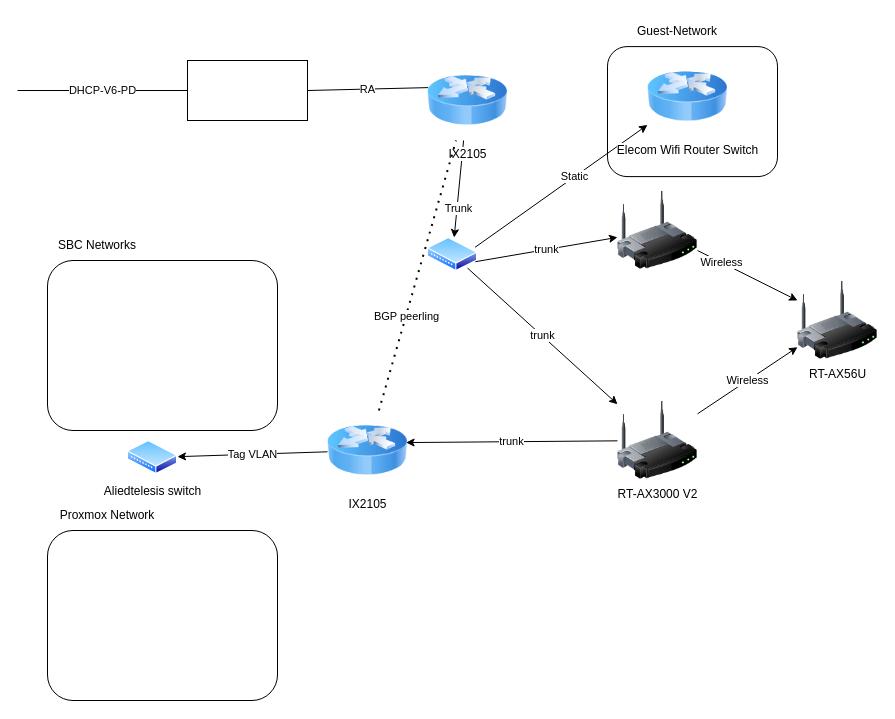
The diagram is 895 pixels wide and 719 high, and some of its shapes have lost their labels. Here are the shapes that lost their labels. From the top down, the centre of each, then its label:
At point (247, 90): "HGW".
At point (657, 230): "TUF-AX6000".
At point (452, 254): "TP LINK HUB".
